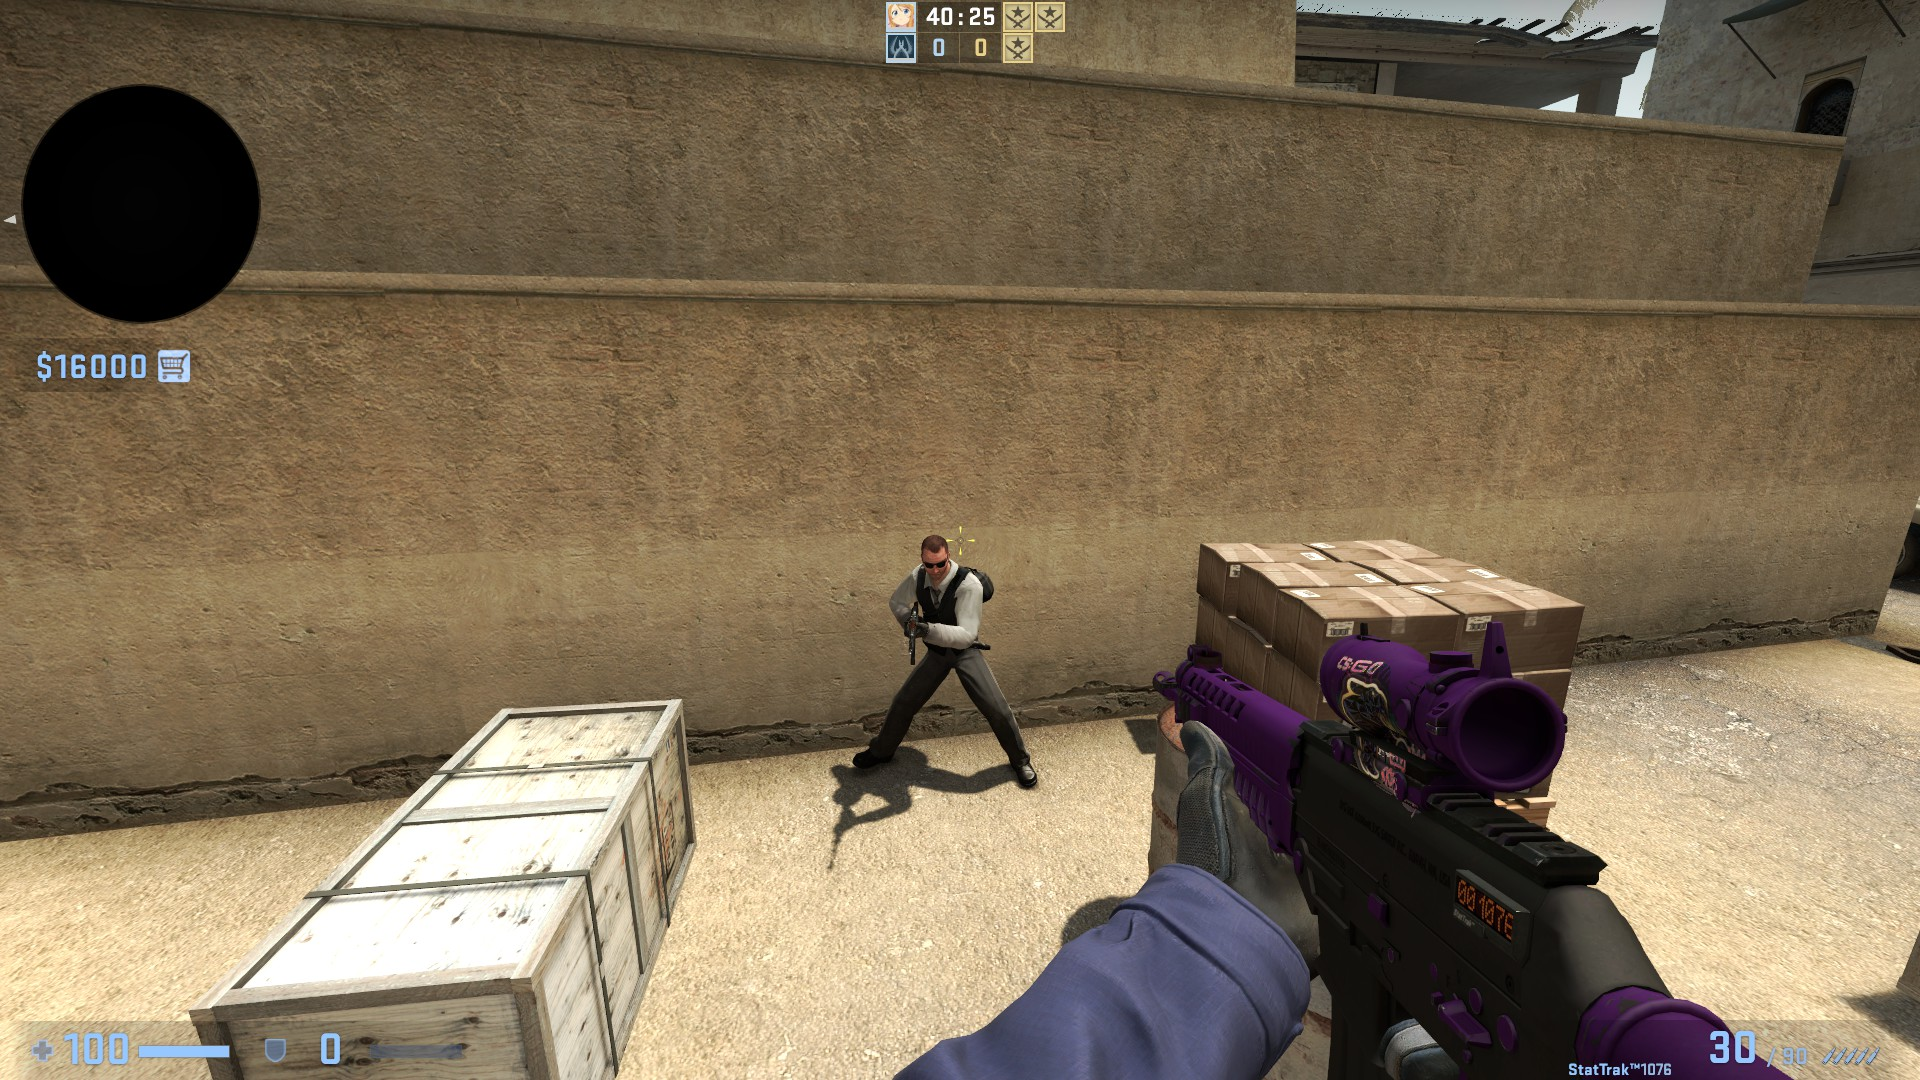head: (915, 532, 956, 581)
